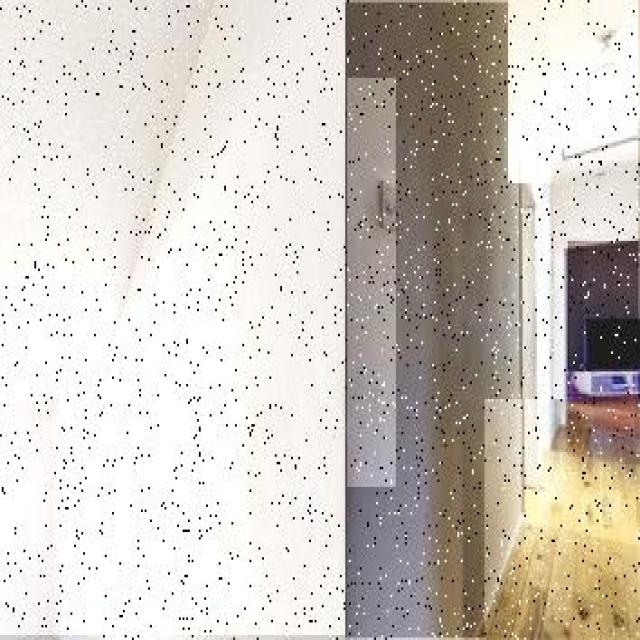Wall: (0, 1, 345, 635), (347, 5, 539, 637), (485, 400, 640, 640), (509, 0, 638, 183), (555, 162, 638, 424), (349, 78, 396, 487), (568, 242, 638, 371), (619, 2, 638, 100)
